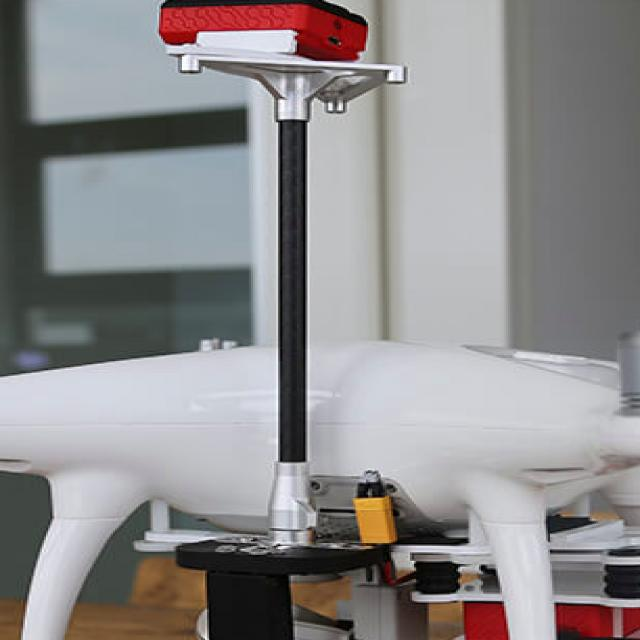drone: (0, 263, 640, 558)
